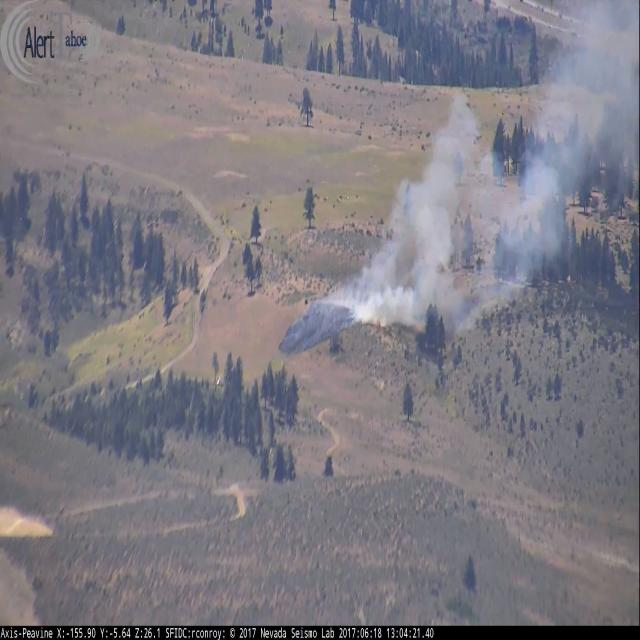smoke: (292, 0, 637, 353)
